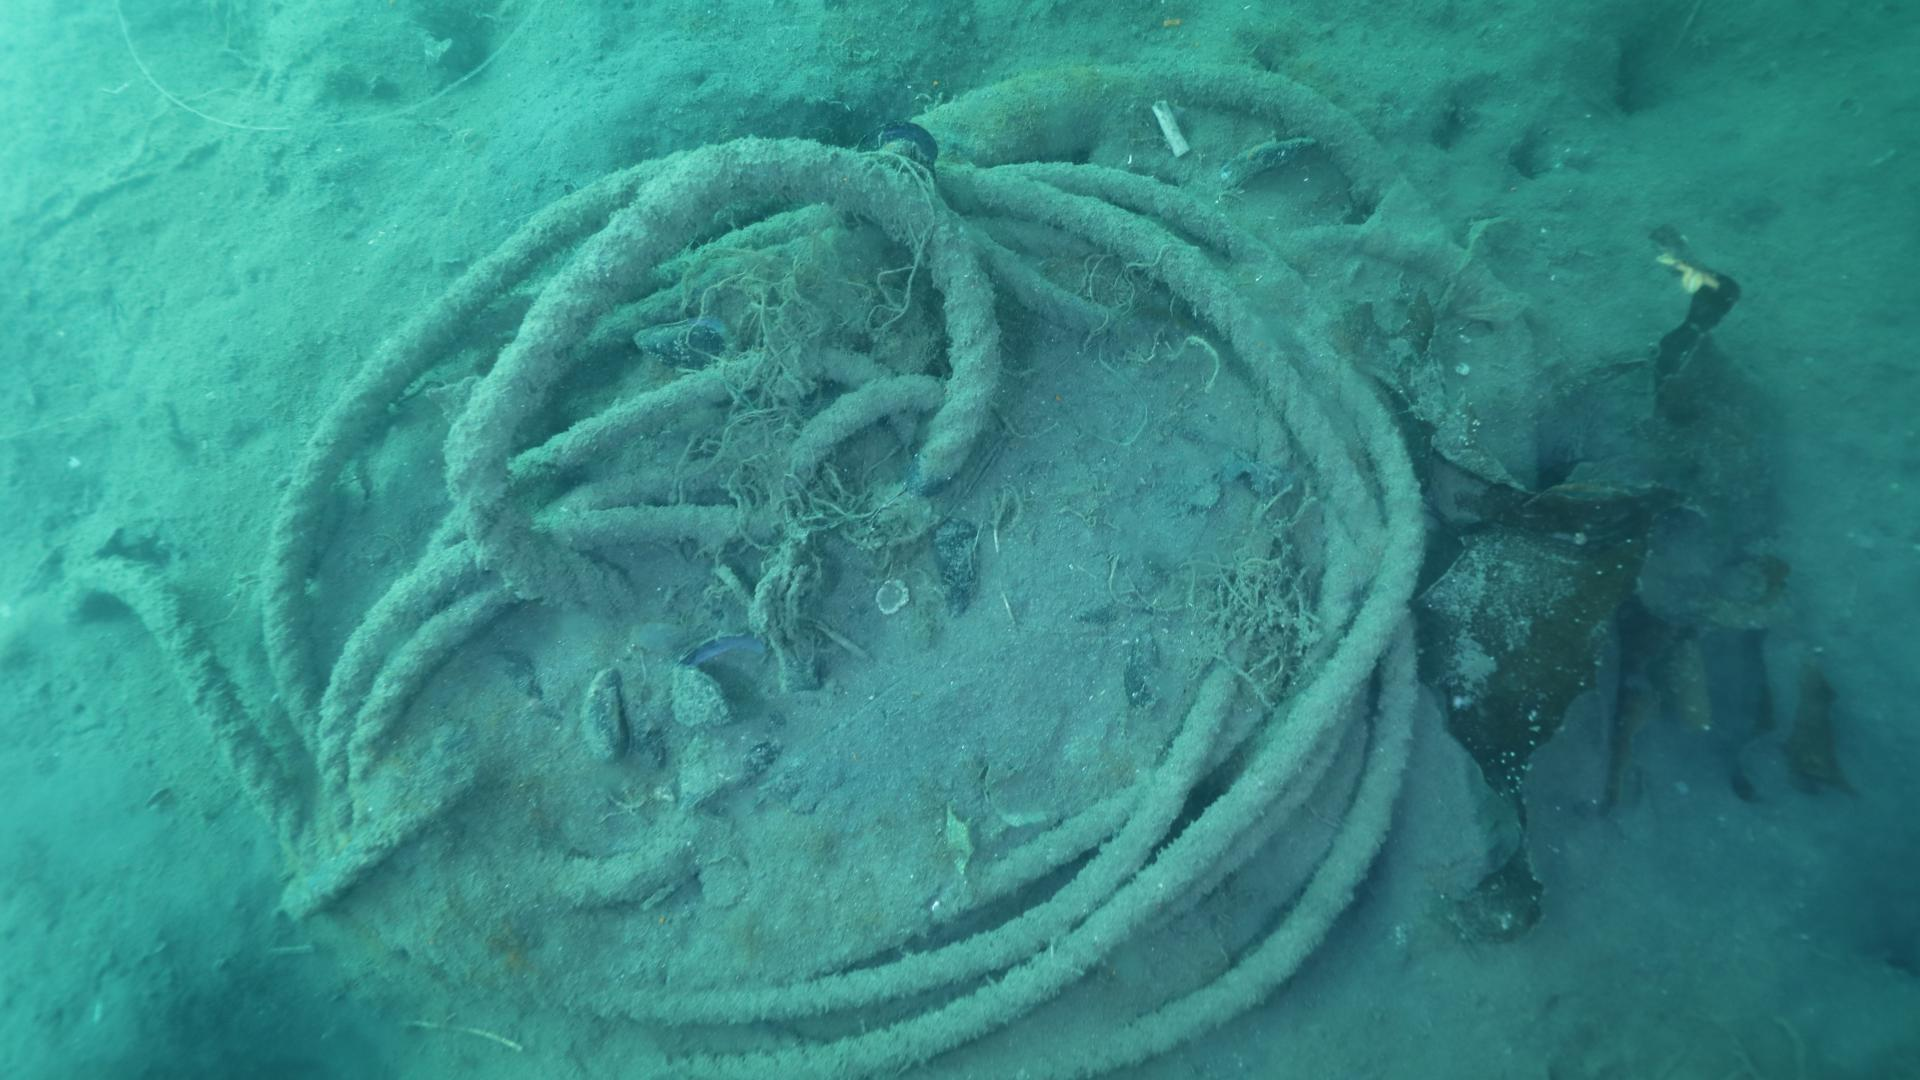bundle of ropes: (57, 136, 1428, 1080)
